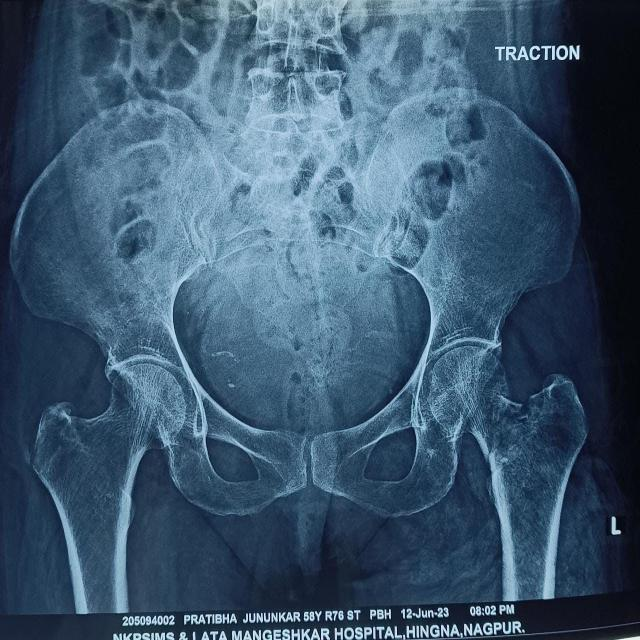left-neck: (486, 373, 589, 578), (429, 346, 523, 461)
normal-right: (31, 362, 186, 594)
